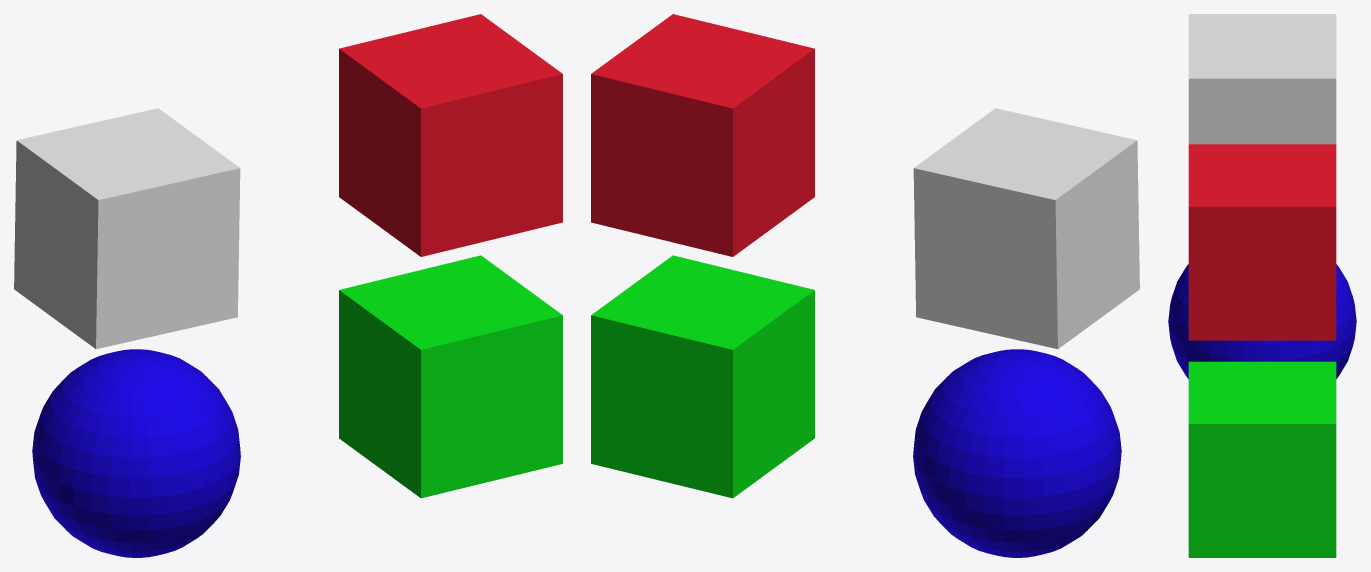
File: Lights.gltf
3 renders of one model, left to right at view 1: azimuth 30°, elevation 25°; view 2: azimuth 150°, elevation 25°; view 3: azimuth 270°, elevation 25°, orthographic. The views are drawn at different scales.
Parts seen in each view (by area): view 1: Cube.003, Cube.002, Cube.001, Sphere; view 2: Cube.003, Cube.002, Cube.001, Sphere; view 3: Cube.002, Cube.001, Cube.003, Sphere.
Part boxes in pixels (x1,y1,x2,y2): Cube.003: [14, 108, 240, 349]; Cube.002: [339, 14, 562, 256]; Cube.001: [339, 255, 562, 498]; Sphere: [32, 349, 240, 557]; Cube.003: [913, 108, 1139, 349]; Cube.002: [591, 14, 814, 256]; Cube.001: [591, 255, 814, 498]; Sphere: [913, 349, 1121, 557]; Cube.002: [1188, 144, 1336, 340]; Cube.001: [1188, 361, 1336, 557]; Cube.003: [1188, 14, 1336, 144]; Sphere: [1168, 264, 1356, 378].
Bounding box in the file's own units: 6.71 × 5.53 × 2.55.
